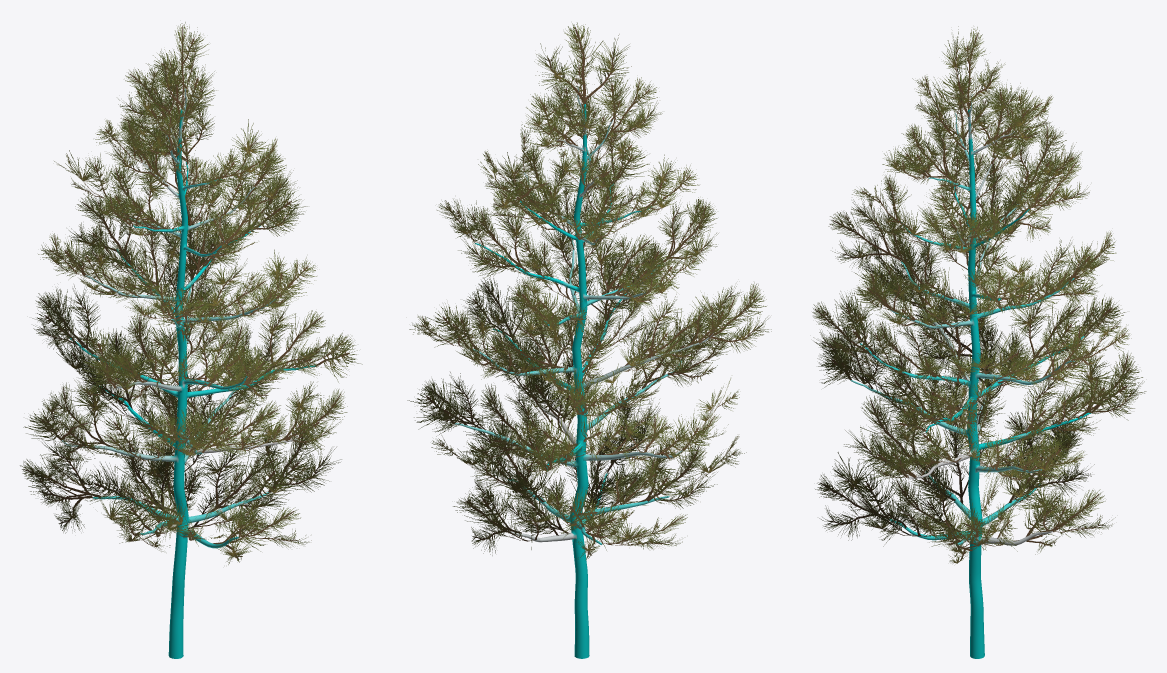
The model's file is SM_SmallPine_02.fbx.
3 views of the same model, side by side, from view 1: azimuth 30°, elevation 25°; view 2: azimuth 150°, elevation 25°; view 3: azimuth 270°, elevation 25° (orthographic).
Visible parts, largest first — view 1: SM_SmallPine_02_LOD0; view 2: SM_SmallPine_02_LOD0; view 3: SM_SmallPine_02_LOD0.
Part boxes in pixels (box(x1,y1,x2,y2)): SM_SmallPine_02_LOD0: box(20, 22, 362, 658); SM_SmallPine_02_LOD0: box(407, 22, 771, 658); SM_SmallPine_02_LOD0: box(812, 26, 1146, 658).
Size of what is drawn, in the model's own units: 345 by 685 by 340.
